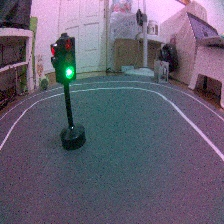green: (49, 32, 91, 156)
